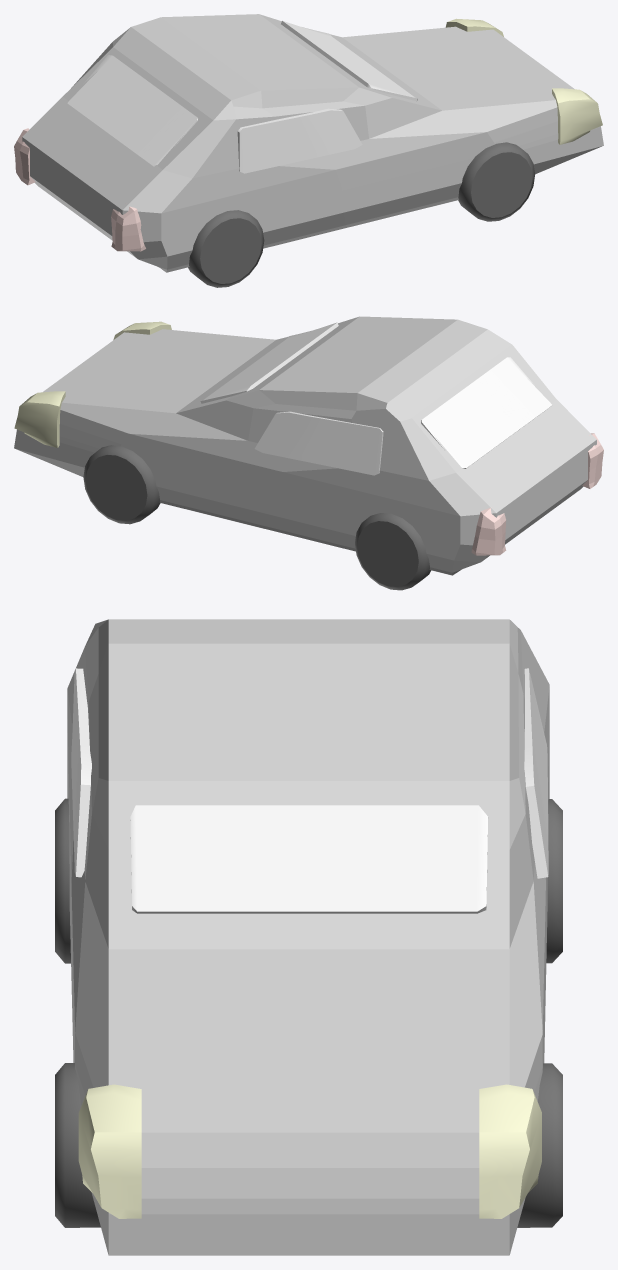
The model's file is CarroBlanco.fbx.
The picture shows the model from 3 angles, top to bottom: view 1: azimuth 30°, elevation 25°; view 2: azimuth 150°, elevation 25°; view 3: azimuth 270°, elevation 25°; orthographic projection. The views are drawn at different scales.
Visible parts, largest first — view 1: pCube1, pCube10, pCube8, pCylinder1, pCylinder2, pCube9, pCube6, pCube11; view 2: pCube1, pCube10, pCube12, pCylinder3, pCylinder4, pCube9, pCube6, pCube11; view 3: pCube1, pCube6, pCube9, pCylinder1, pCylinder3, pCube12, pCube8, pCylinder4, pCylinder2.
Boxes of the visible parts, bbox=[...] form: pCube1: bbox=[22, 14, 603, 272]; pCube10: bbox=[67, 55, 197, 166]; pCube8: bbox=[237, 108, 362, 173]; pCylinder1: bbox=[458, 142, 534, 221]; pCylinder2: bbox=[188, 210, 264, 287]; pCube9: bbox=[445, 18, 602, 144]; pCube6: bbox=[281, 20, 417, 101]; pCube11: bbox=[14, 128, 145, 251]; pCube1: bbox=[14, 316, 596, 575]; pCube10: bbox=[421, 357, 552, 468]; pCube12: bbox=[254, 411, 383, 475]; pCylinder3: bbox=[83, 445, 160, 524]; pCylinder4: bbox=[355, 513, 431, 590]; pCube9: bbox=[14, 321, 171, 447]; pCube6: bbox=[200, 322, 338, 403]; pCube11: bbox=[471, 433, 603, 555]; pCube1: bbox=[67, 619, 549, 1255]; pCube6: bbox=[130, 805, 488, 913]; pCube9: bbox=[78, 1084, 541, 1218]; pCylinder1: bbox=[55, 1063, 100, 1227]; pCylinder3: bbox=[517, 1063, 562, 1227]; pCube12: bbox=[524, 668, 548, 878]; pCube8: bbox=[71, 668, 91, 877]; pCylinder4: bbox=[546, 799, 562, 963]; pCylinder2: bbox=[55, 798, 70, 963].
Bounding box in the file's own units: 24.46 × 8.56 × 11.09.
